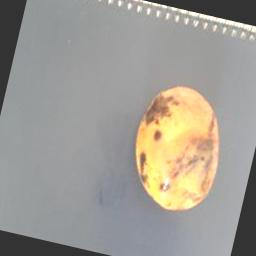Mango Rotten: (108, 68, 242, 238)
